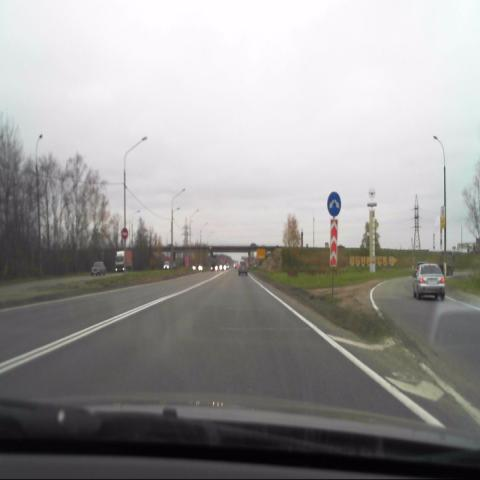4_2_3: (327, 190, 343, 217)
